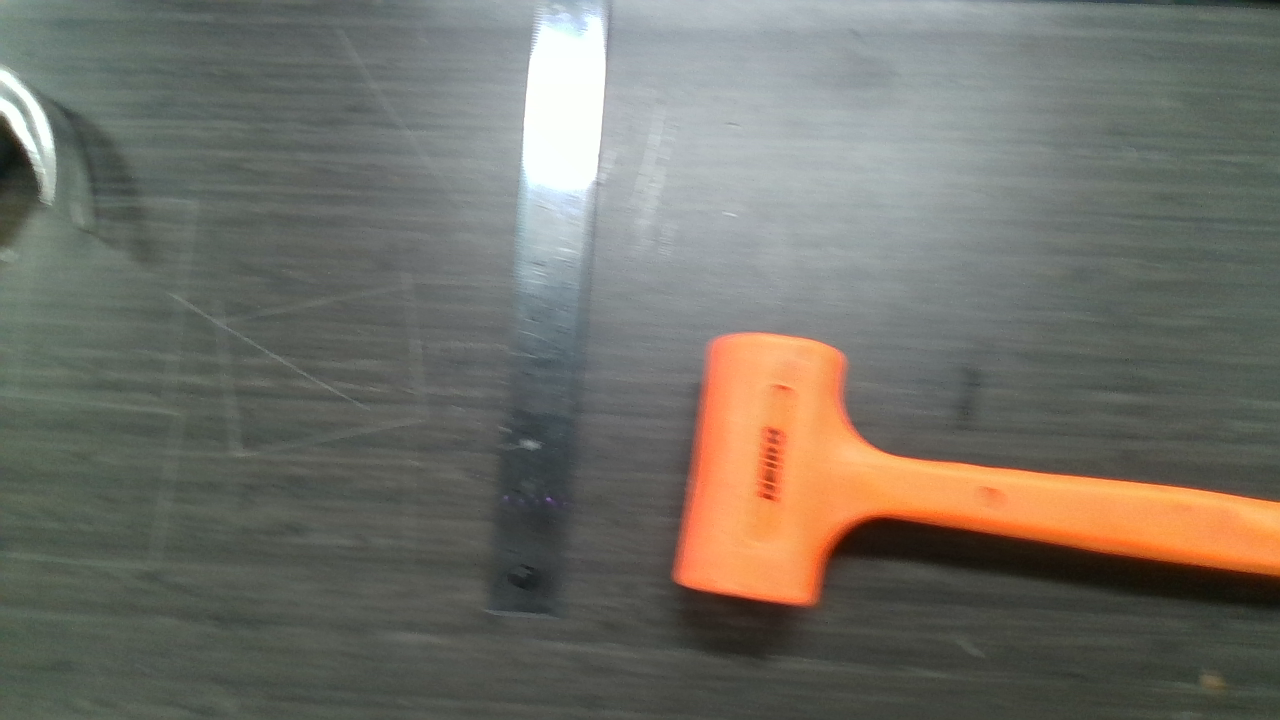Orange Hammer: (679, 333, 1273, 614)
